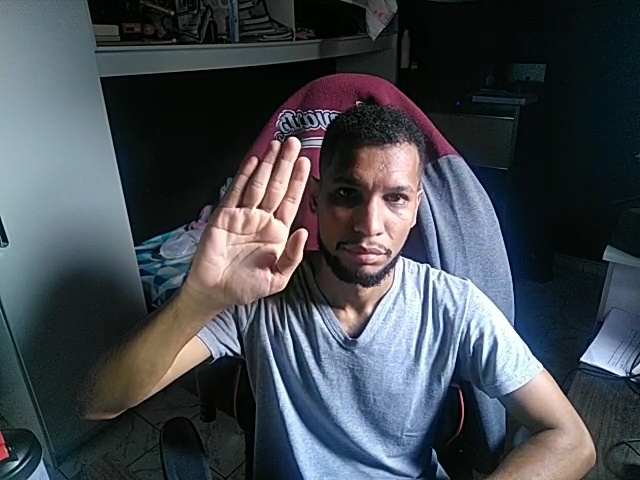oi: (190, 131, 314, 305)
